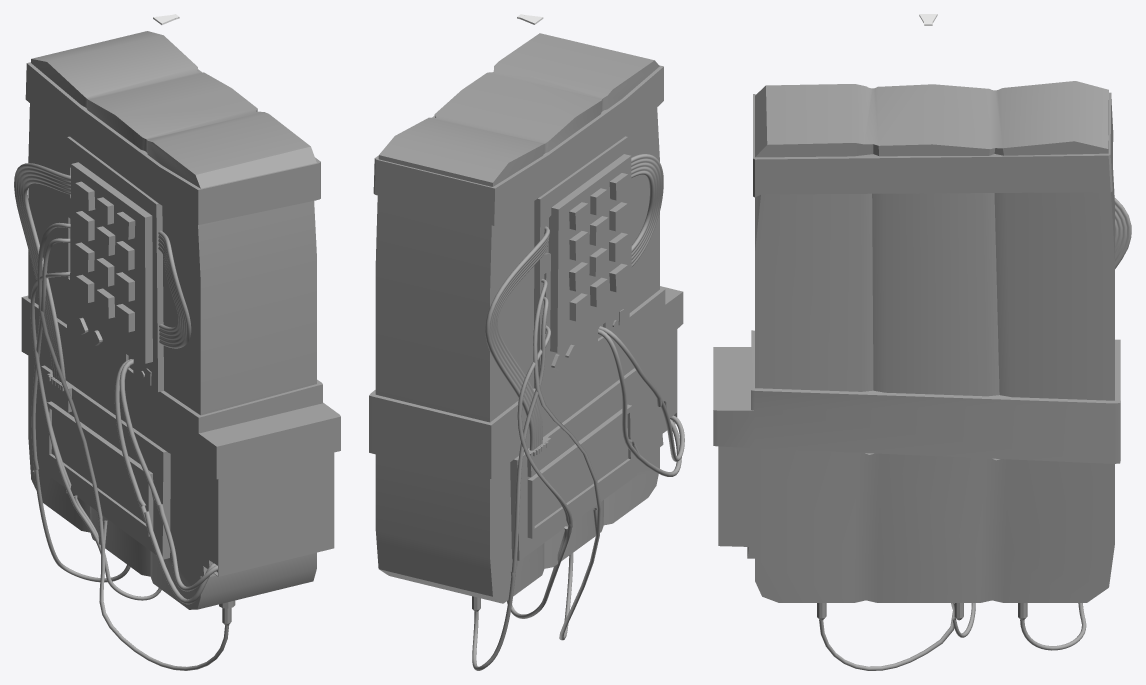
File: BombReady.fbx
3 views of the same model, side by side, from view 1: azimuth 30°, elevation 25°; view 2: azimuth 150°, elevation 25°; view 3: azimuth 270°, elevation 25° (orthographic). The views are drawn at different scales.
Visible parts, largest first — view 1: Bomba, Pantalla, CableGordo, Cable1, Cable3, CableGordo1, Cable2, Cable5, Cable4, Cable2_Cut, Cable3_Cut; view 2: Bomba, Pantalla, CableGordo, Cable1, Cable3, CableGordo1, Cable2, Cable4, Cable5, Cable3_Cut, Cable2_Cut; view 3: Bomba, Cable1, CableGordo.
Boxes of the visible parts, x1=… form: Bomba: x1=21, y1=31, x2=340, y2=609; Pantalla: x1=51, y1=410, x2=146, y2=522; CableGordo: x1=14, y1=163, x2=70, y2=382; Cable1: x1=37, y1=222, x2=229, y2=670; Cable3: x1=31, y1=238, x2=130, y2=582; CableGordo1: x1=158, y1=230, x2=191, y2=348; Cable2: x1=30, y1=271, x2=161, y2=600; Cable5: x1=119, y1=359, x2=217, y2=591; Cable4: x1=114, y1=359, x2=216, y2=604; Cable2_Cut: x1=30, y1=272, x2=160, y2=600; Cable3_Cut: x1=33, y1=238, x2=126, y2=580; Bomba: x1=369, y1=33, x2=683, y2=603; Pantalla: x1=534, y1=414, x2=628, y2=525; CableGordo: x1=485, y1=226, x2=549, y2=450; Cable1: x1=533, y1=279, x2=601, y2=640; Cable3: x1=472, y1=296, x2=548, y2=670; CableGordo1: x1=631, y1=154, x2=663, y2=266; Cable2: x1=507, y1=325, x2=572, y2=618; Cable4: x1=598, y1=329, x2=681, y2=476; Cable5: x1=599, y1=326, x2=684, y2=461; Cable3_Cut: x1=472, y1=300, x2=547, y2=669; Cable2_Cut: x1=511, y1=327, x2=572, y2=618; Bomba: x1=713, y1=81, x2=1120, y2=602; Cable1: x1=819, y1=603, x2=955, y2=670; CableGordo: x1=1114, y1=198, x2=1131, y2=268.
Bounding box in the file's own units: 136 × 553 × 318.
